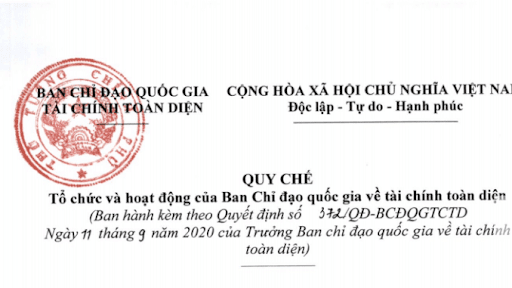Round chop: (10, 54, 150, 191)
